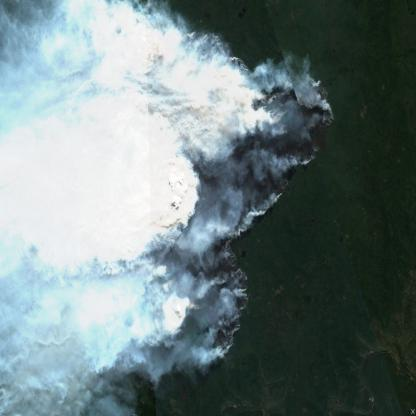fire: (119, 29, 334, 363)
